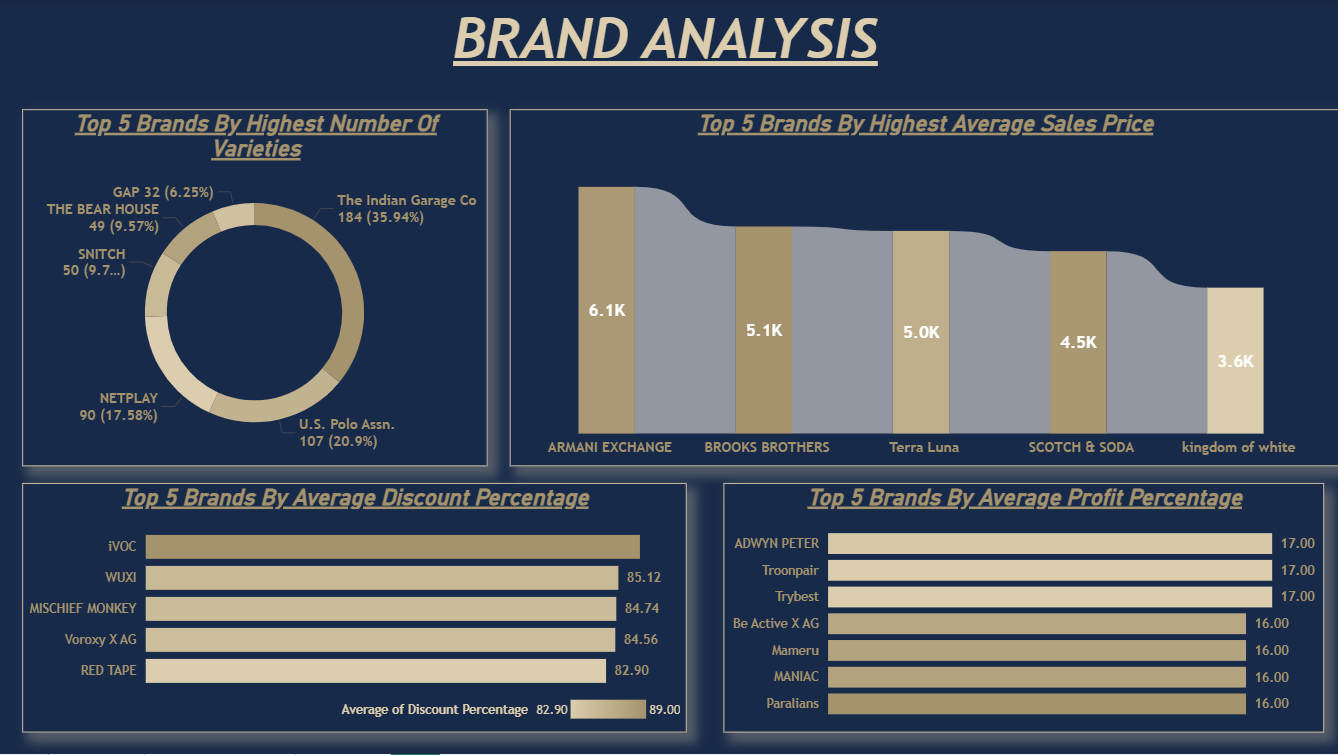

The page's visual inventory and layout, read from the dashboard file:
{"tool":"powerbi","page":{"name":"Brand Analysis","canvas":[1280,720],"ordinal":0},"visuals":[{"type":"barChart","title":"Top 5 Brands By Average Discount Percentage","fields":{"Category":["Men Tshirt.Brand"],"Y":["Avg(Men Tshirt.Discount Percentage)"]},"box":[24.7,462.4,632.6,237.4],"z":1000},{"type":"donutChart","title":"Top 5 Brands By Highest Number Of Varieties","fields":{"Category":["Men Tshirt.Brand"],"Y":["CountNonNull(Men Tshirt.Title)"]},"box":[24.7,105.7,443.2,340.3],"z":3000},{"type":"ribbonChart","title":"Top 5 Brands By Highest Average Sales Price","fields":{"Category":["Men Tshirt.Brand"],"Y":["Avg(Men Tshirt.Sale Price)"]},"box":[489.9,105.7,790.4,340.3],"z":4000},{"type":"barChart","title":"Top 5 Brands By Average Profit Percentage","fields":{"Category":["Men Tshirt.Brand"],"Y":["Avg(Men Tshirt.Profit Percentage)"]},"box":[693,462.4,572.2,237.4],"z":5000},{"type":"shape","box":[0,0,1280.3,70],"z":5001}]}

Visuals, with their boxes in screenshot pixels (x1, y1, x2, y2), scaled from the page's 1280x720 canvas onto the 1338x755 screenshot:
"Top 5 Brands By Average Discount Percentage" barChart: {"left": 26, "top": 485, "right": 687, "bottom": 734}
"Top 5 Brands By Highest Number Of Varieties" donutChart: {"left": 26, "top": 111, "right": 489, "bottom": 468}
"Top 5 Brands By Highest Average Sales Price" ribbonChart: {"left": 512, "top": 111, "right": 1337, "bottom": 468}
"Top 5 Brands By Average Profit Percentage" barChart: {"left": 724, "top": 485, "right": 1323, "bottom": 734}
shape: {"left": 0, "top": 0, "right": 1337, "bottom": 73}
